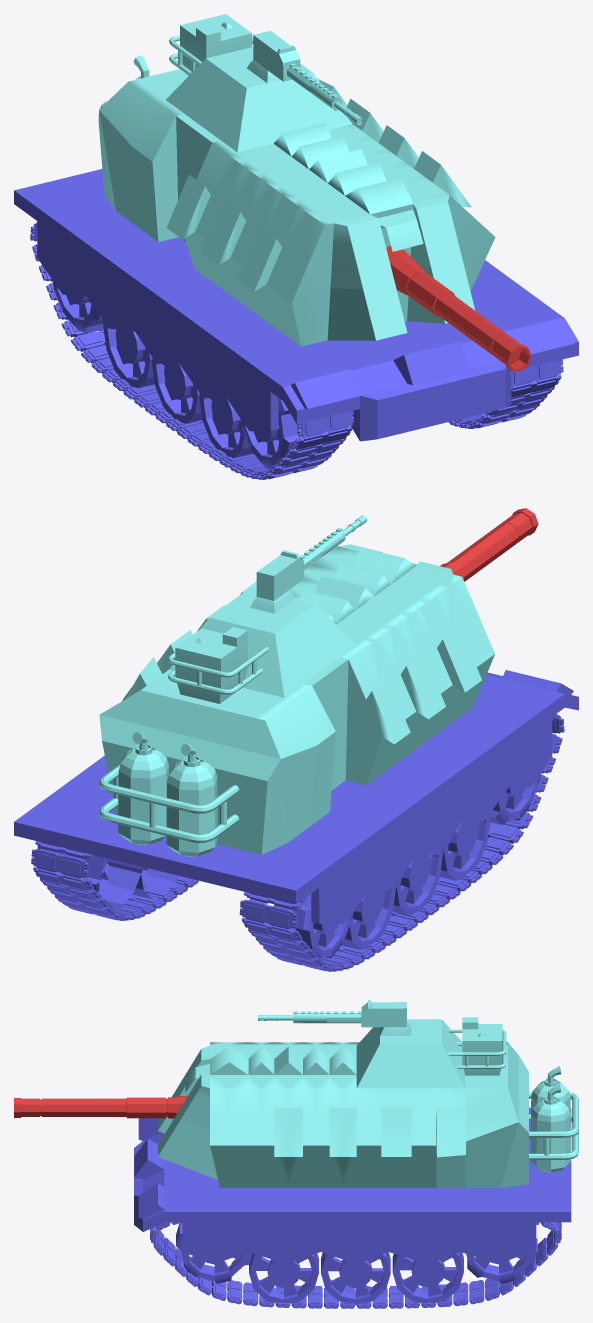
File: mo_BaseTank.fbx
3 views of the same model, one above another, from view 1: azimuth 30°, elevation 25°; view 2: azimuth 150°, elevation 25°; view 3: azimuth 270°, elevation 25° (orthographic). The views are drawn at different scales.
Parts seen in each view (by area): view 1: scn_Tank1:head, scn_Tank1:base, scn_Tank1:canon; view 2: scn_Tank1:head, scn_Tank1:base, scn_Tank1:canon; view 3: scn_Tank1:head, scn_Tank1:base, scn_Tank1:canon.
Boxes of the visible parts, x1=… form: scn_Tank1:head: x1=98, y1=14, x2=495, y2=346; scn_Tank1:base: x1=14, y1=169, x2=578, y2=479; scn_Tank1:canon: x1=386, y1=245, x2=531, y2=371; scn_Tank1:head: x1=99, y1=515, x2=494, y2=856; scn_Tank1:base: x1=14, y1=670, x2=578, y2=971; scn_Tank1:canon: x1=440, y1=508, x2=538, y2=581; scn_Tank1:head: x1=158, y1=1000, x2=578, y2=1187; scn_Tank1:base: x1=134, y1=1107, x2=571, y2=1308; scn_Tank1:canon: x1=14, y1=1095, x2=187, y2=1118.
Bounding box in the file's own units: 476 × 550 × 1091.
